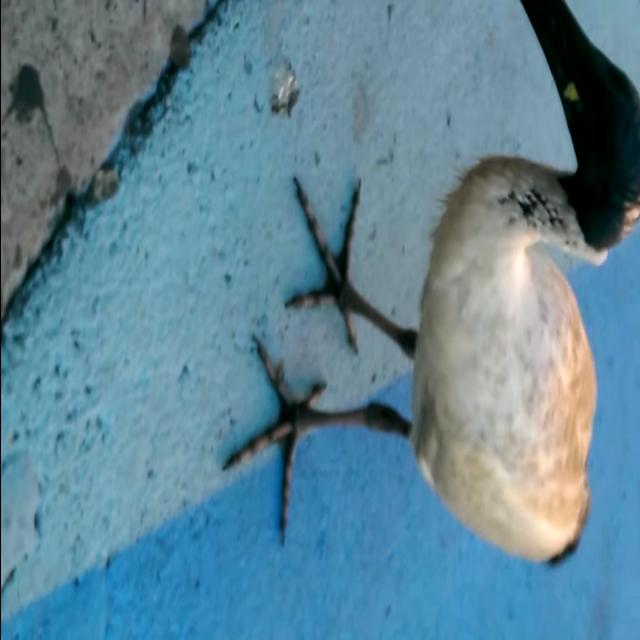Birds-Ibis: (213, 0, 640, 577)
